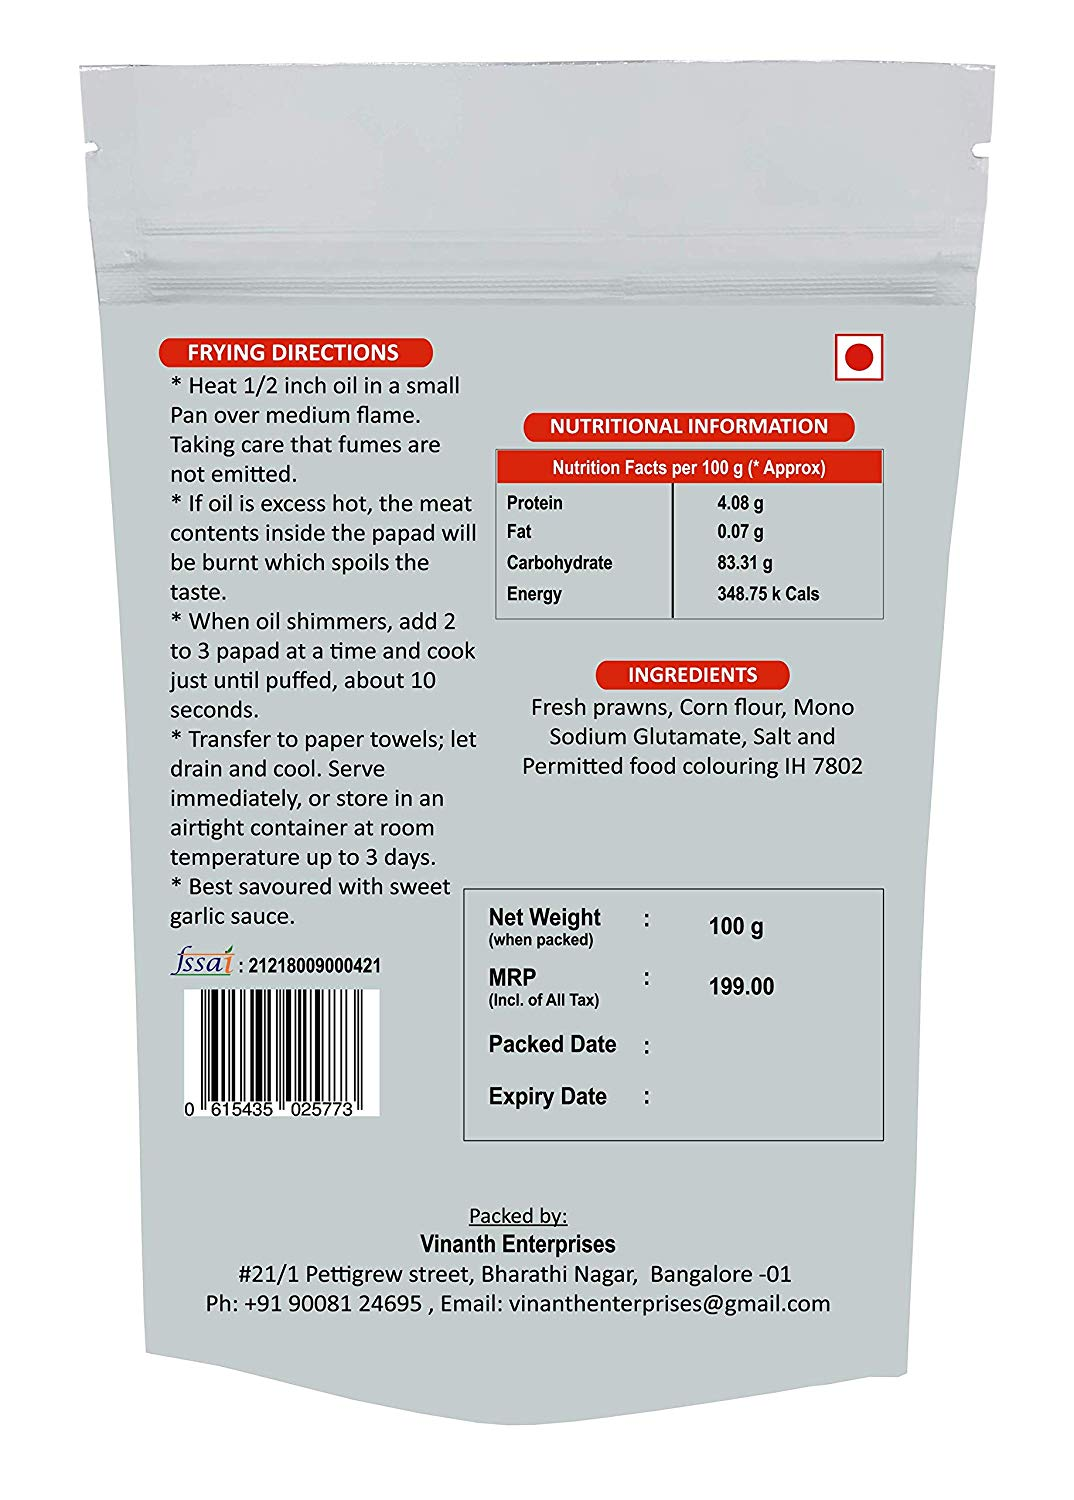nonveg_red: (830, 325, 898, 392)
